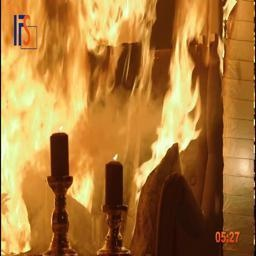fire: (3, 2, 240, 256)
